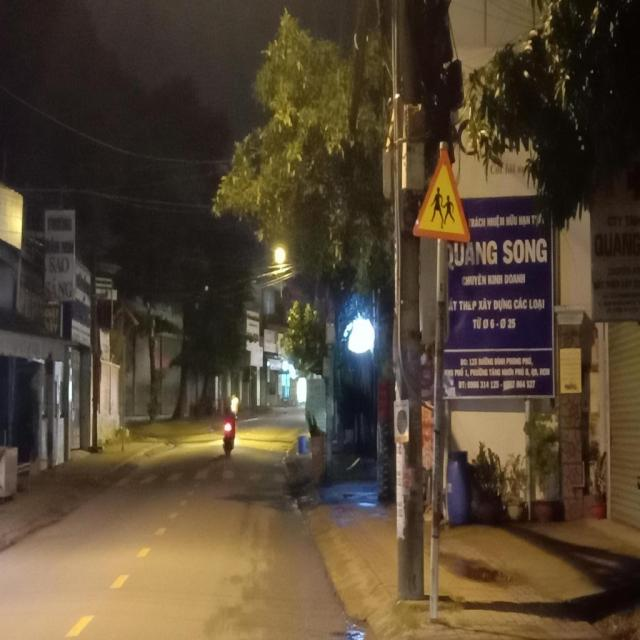chu_y_tre_em: (412, 145, 472, 243)
